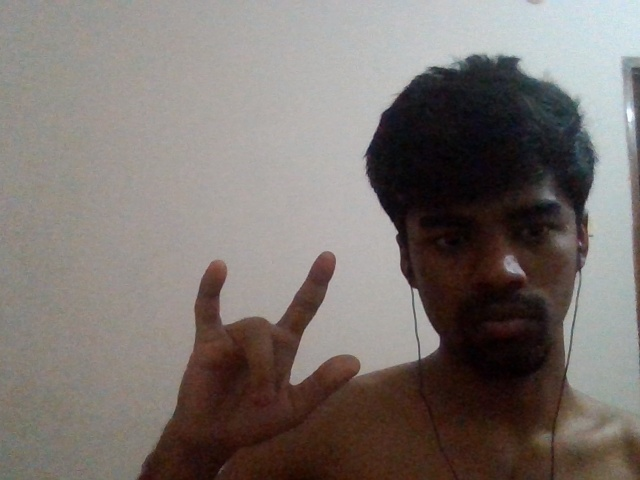ILoveYou: (155, 244, 366, 461)
